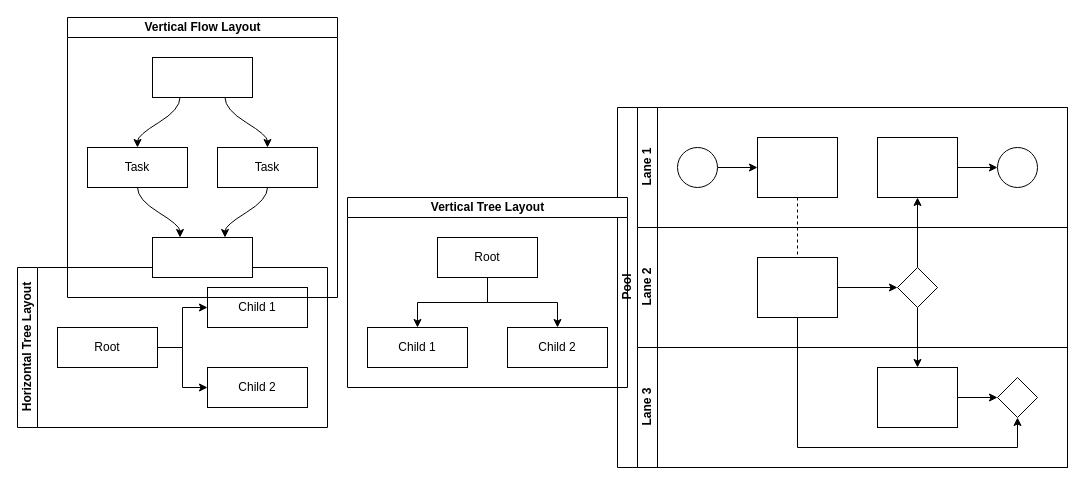
This 1085x485 diagram has some shape labels left out. The shapes that lost their labels are listed below. From the top down, each one's centre as x and y in pixels, then its label:
At point (202, 77): "Start".
At point (202, 257): "End".
